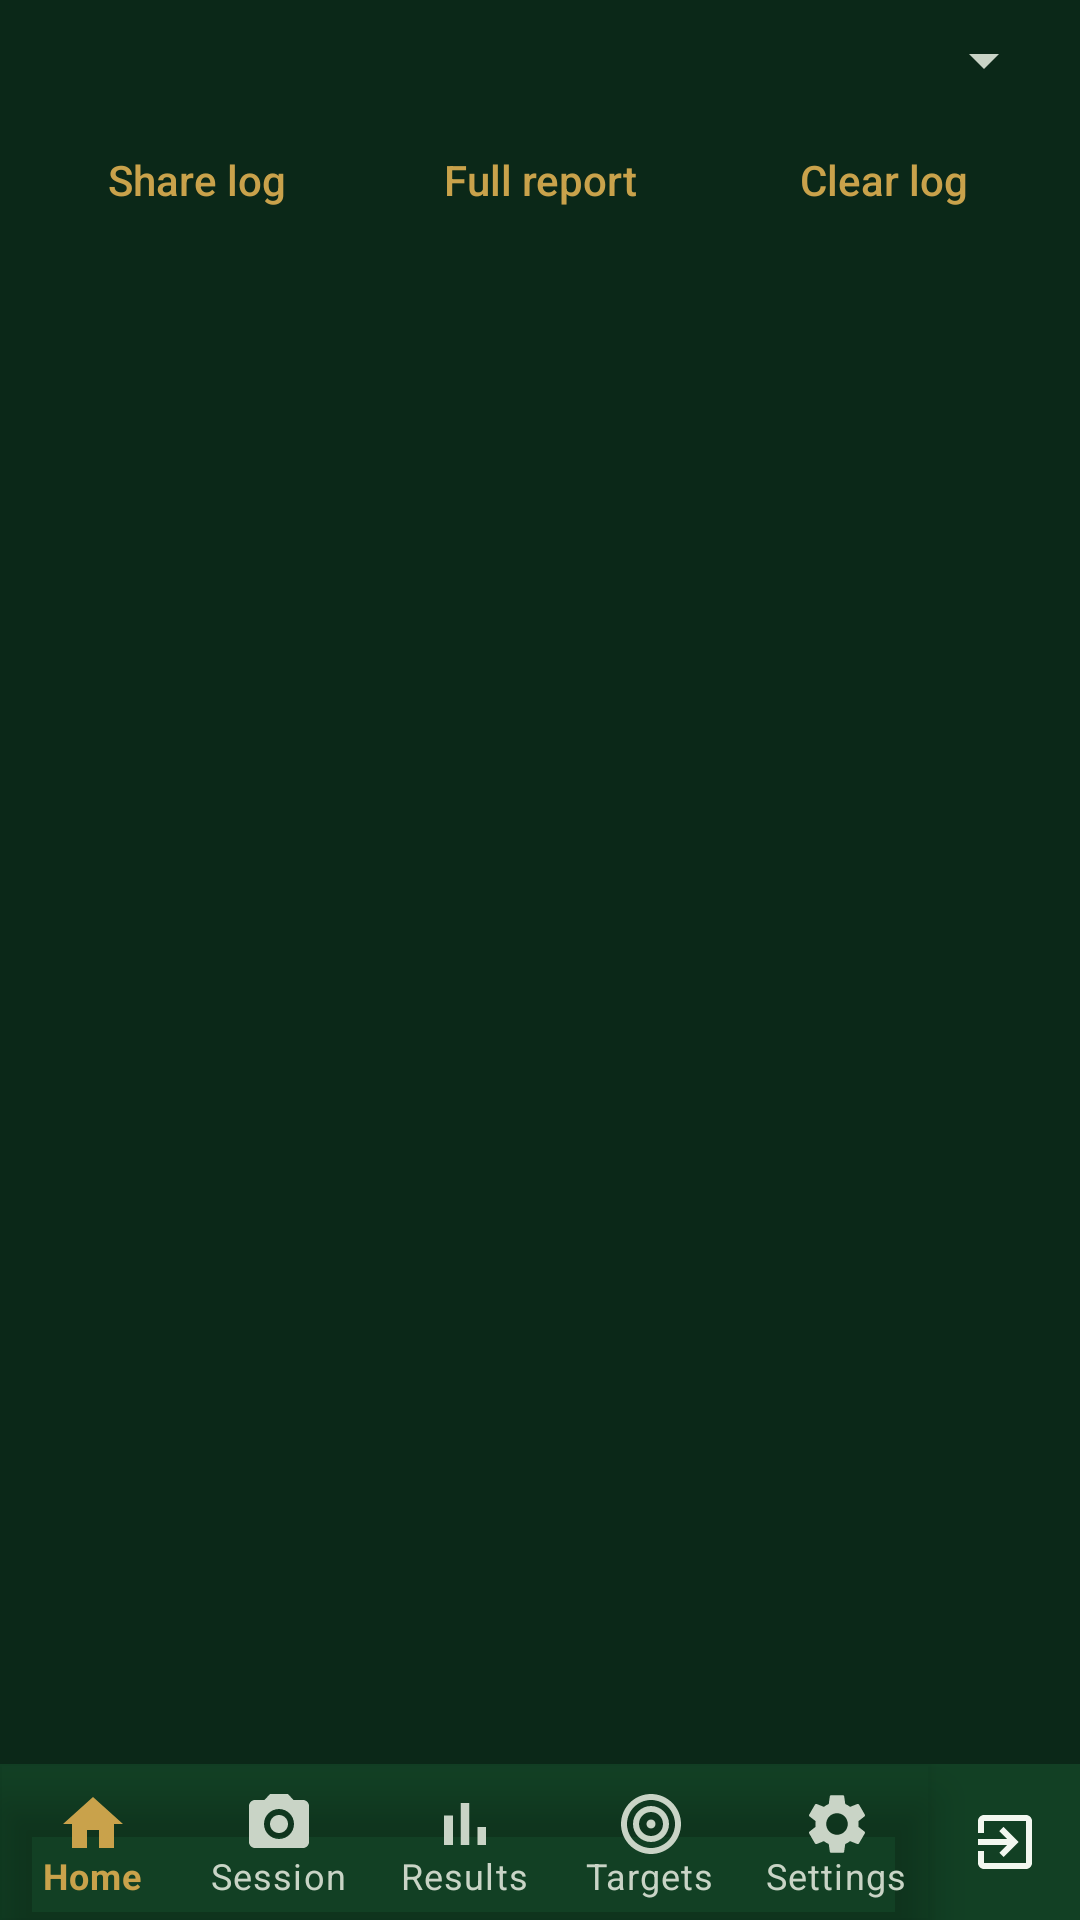

Locate icon controls on the screen. Image size 1080w x 1920h, boxes as (x1, y1, x2, y2).
exit: (978, 1815, 1032, 1869)
